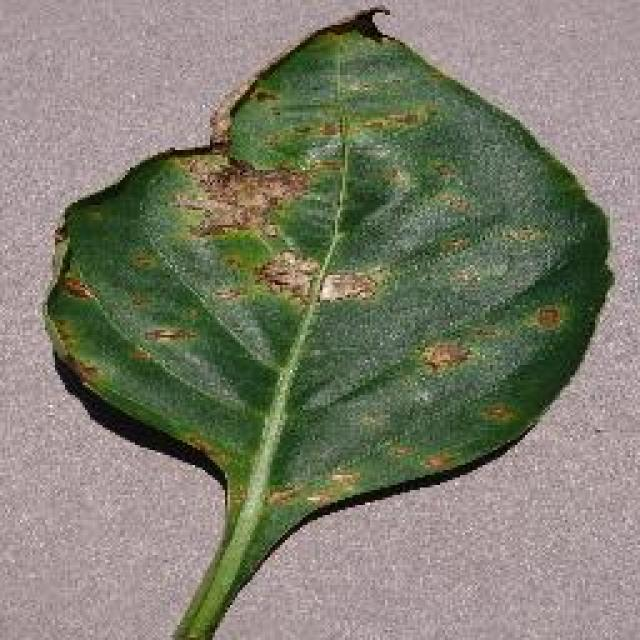Chilli_Bacterial_Spot: (40, 8, 615, 522), (165, 147, 310, 245), (248, 245, 382, 307), (250, 245, 320, 303), (358, 100, 438, 138), (312, 267, 380, 305), (415, 335, 473, 377), (140, 320, 198, 348), (58, 270, 98, 305), (122, 242, 160, 278), (475, 398, 520, 428), (527, 300, 565, 332), (418, 447, 458, 475)
